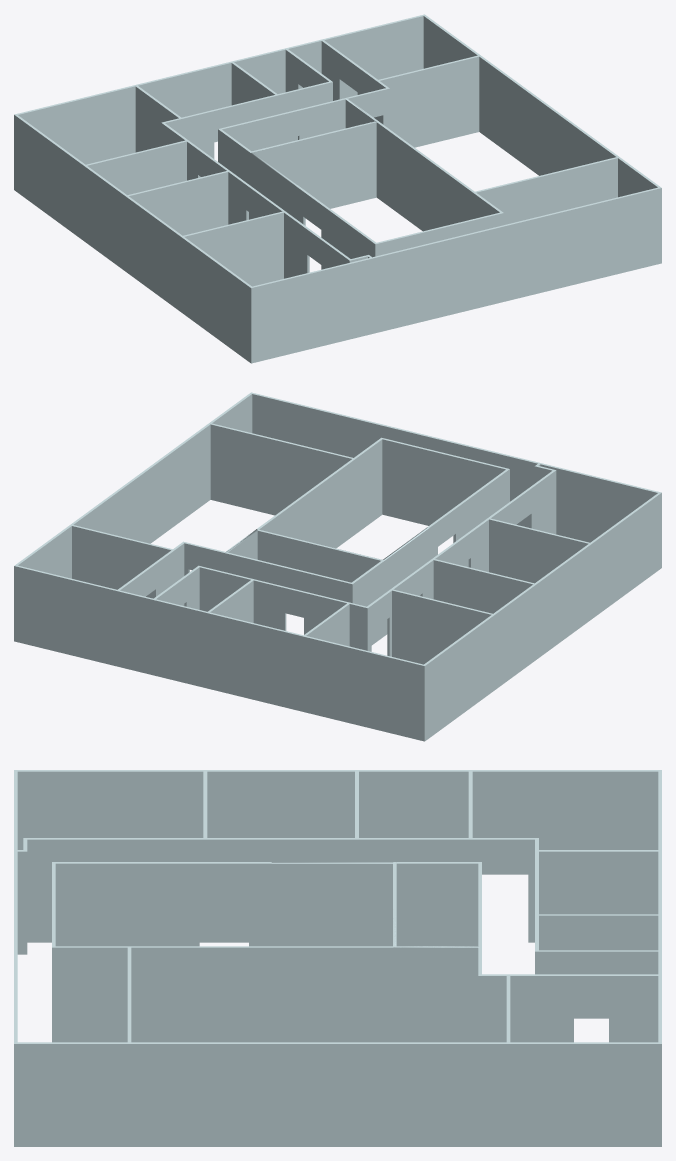
Rendered from floorplan47.dae.
3 views of the same model, one above another, from view 1: azimuth 30°, elevation 25°; view 2: azimuth 150°, elevation 25°; view 3: azimuth 270°, elevation 25° (orthographic). The views are drawn at different scales.
Parts seen in each view (by area): view 1: FloorBoundary, Room_3, Room_2, Room_1, Room_9, Room_8, Room_5, Room_0, Room_6, Room_7, Room_4; view 2: FloorBoundary, Room_2, Room_9, Room_5, Room_1, Room_7, Room_3, Room_8, Room_4, Room_0, Room_6; view 3: Room_2, FloorBoundary, Room_5, Room_1, Room_3, Room_9, Room_0, Room_8, Room_7, Room_6, Room_4.
Part boxes in pixels (x1,y1,x2,y2): FloorBoundary: [14, 15, 661, 362]; Room_3: [180, 212, 373, 363]; Room_2: [345, 55, 617, 231]; Room_1: [320, 14, 480, 147]; Room_9: [14, 84, 188, 240]; Room_8: [218, 98, 377, 219]; Room_5: [249, 121, 503, 269]; Room_0: [125, 170, 285, 312]; Room_6: [83, 140, 228, 271]; Room_7: [134, 61, 278, 177]; Room_4: [231, 48, 332, 144]; FloorBoundary: [15, 392, 661, 739]; Room_2: [72, 423, 355, 605]; Room_9: [302, 589, 495, 741]; Room_5: [257, 437, 509, 635]; Room_1: [14, 524, 175, 666]; Room_7: [206, 579, 349, 712]; Room_3: [488, 463, 661, 617]; Room_8: [224, 529, 384, 645]; Room_4: [152, 565, 254, 688]; Room_0: [431, 518, 592, 626]; Room_6: [390, 559, 536, 689]; Room_2: [127, 946, 510, 1146]; FloorBoundary: [14, 770, 661, 1146]; Room_5: [52, 862, 396, 1042]; Room_1: [506, 974, 661, 1146]; Room_3: [14, 770, 207, 954]; Room_9: [468, 770, 661, 942]; Room_0: [203, 770, 358, 942]; Room_8: [393, 862, 481, 1042]; Room_7: [535, 850, 661, 1018]; Room_6: [355, 770, 472, 861]; Room_4: [535, 914, 661, 1042].
Size of the model in its own units: 17.1 by 17.1 by 3.
